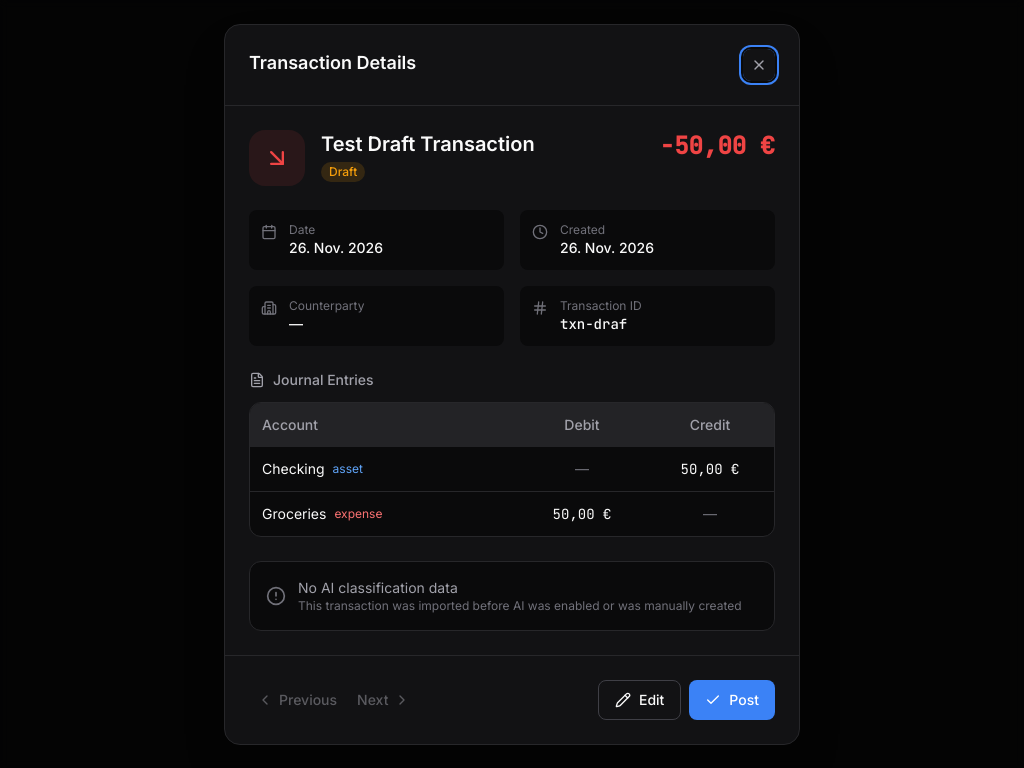
Scenario: TransactionDetailModal › Danger Zone › draft transaction deletion › shows confirmation dialog when deleting draft
This screenshot has width=1024, height=768.
Click the button "Edit".
click(640, 700)  # box [598,680,681,720]
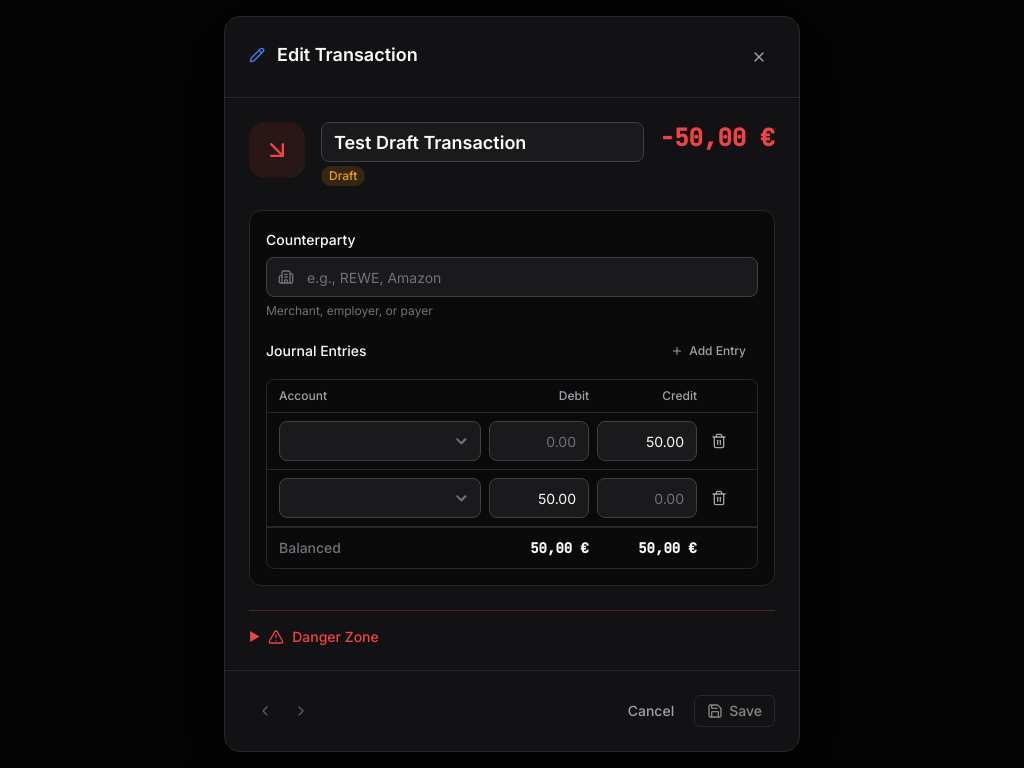
Now the heading "▶ Danger Zone" is shown
Click the heading "▶ Danger Zone".
click(314, 636)  # box [249,628,379,645]
(page scrolled)
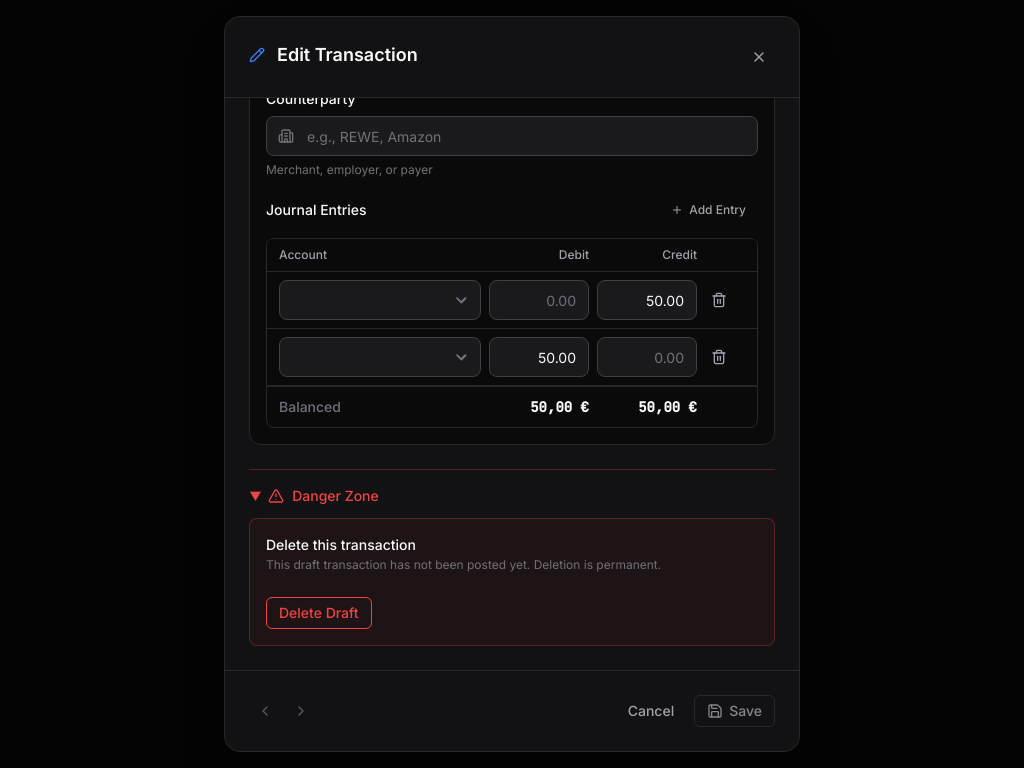
Now the button "Delete Draft" is shown
Click the button "Delete Draft".
click(319, 613)  # box [266,597,372,629]
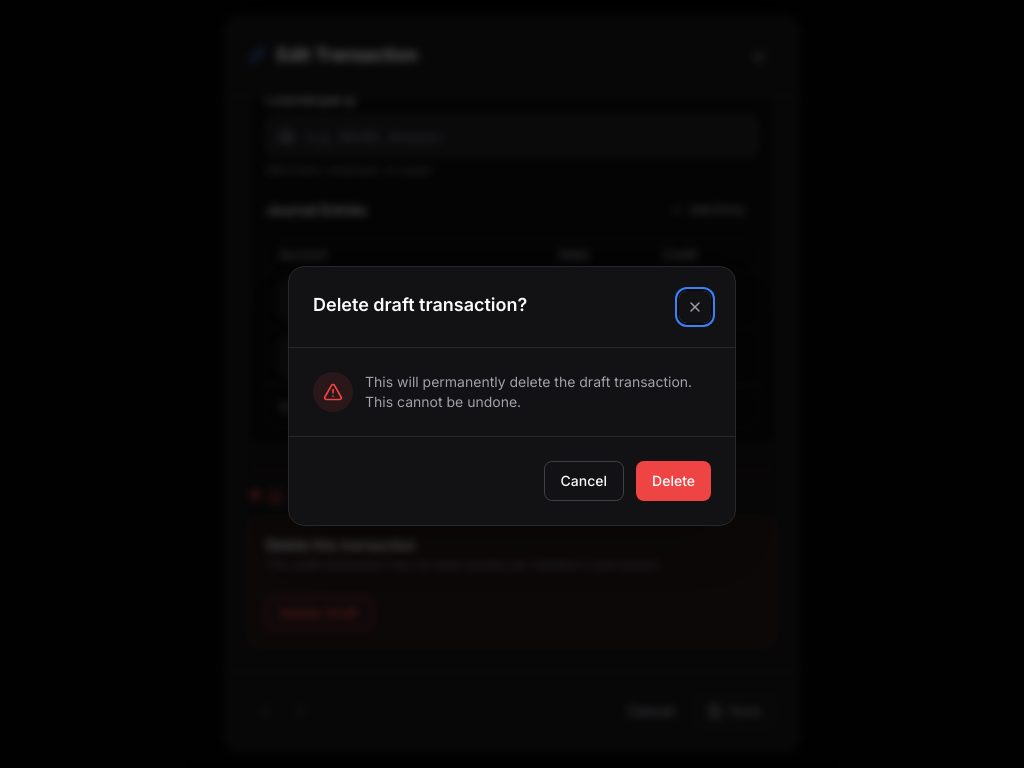
Now the button "Delete" is shown, box [636,461,711,501]
Now the button "Cancel" is shown, box [544,461,624,501]
